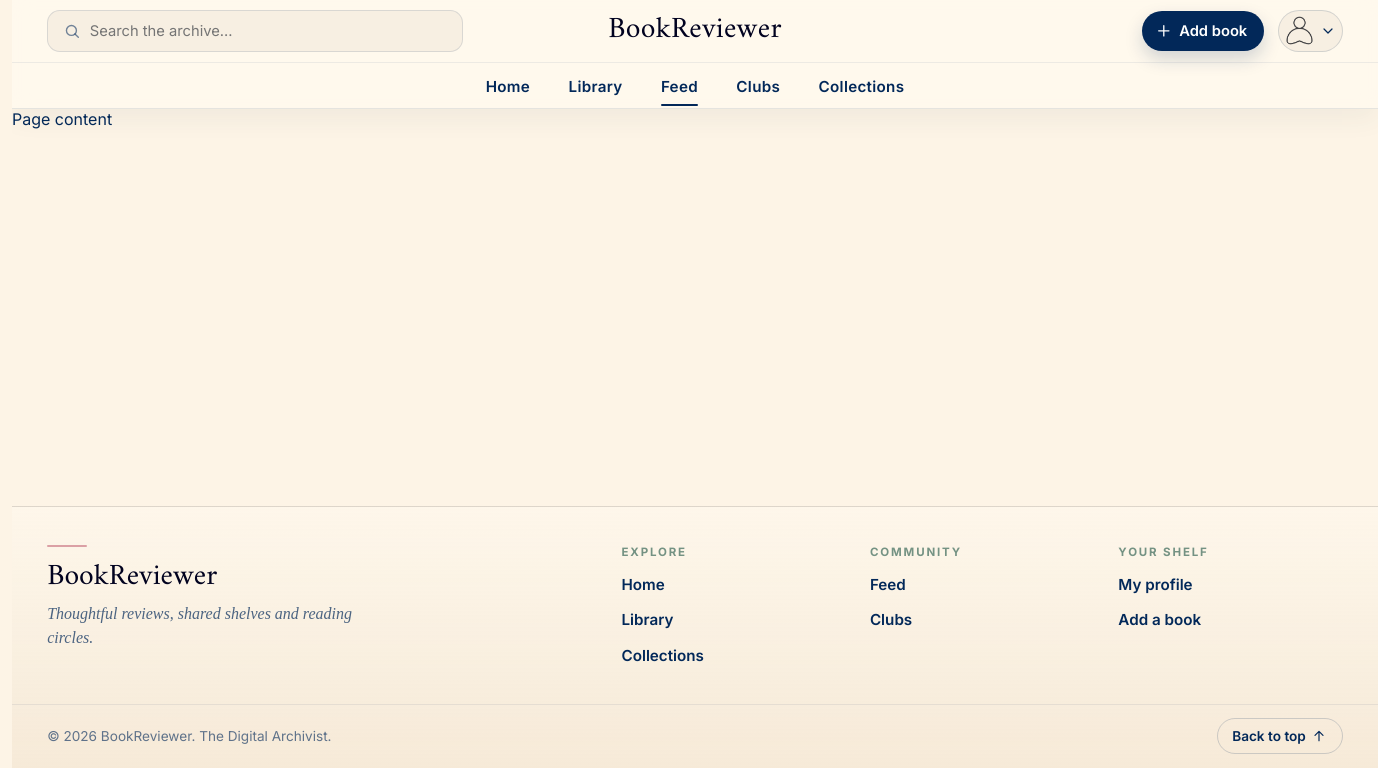
Test: AppChrome account menu › opens with the profile link and log out
Later steps or results of the test are not shown.
Step 1. Click the button named "Account menu" → click(1311, 31), box [1278,10,1343,52]
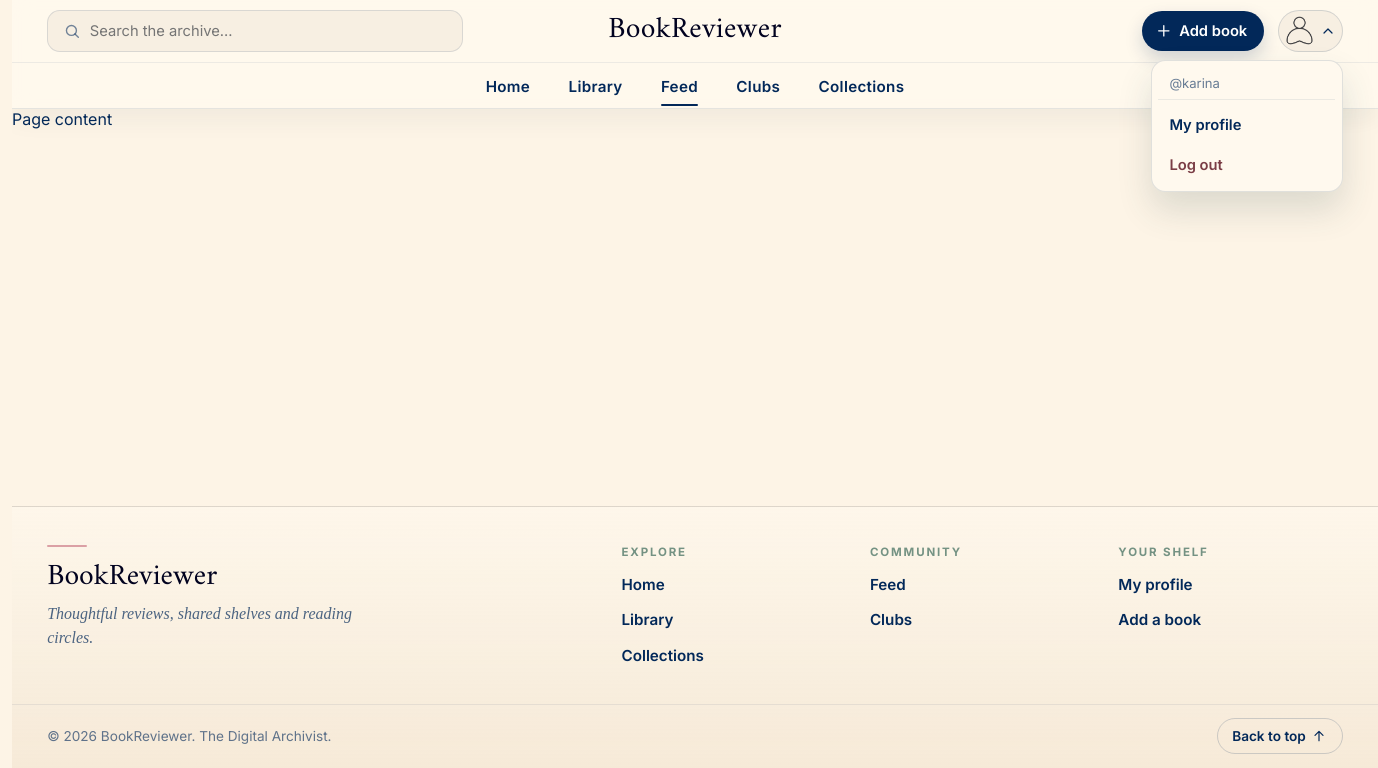
Result: the button named "Account menu" is expanded at [1278,10,1343,52]
